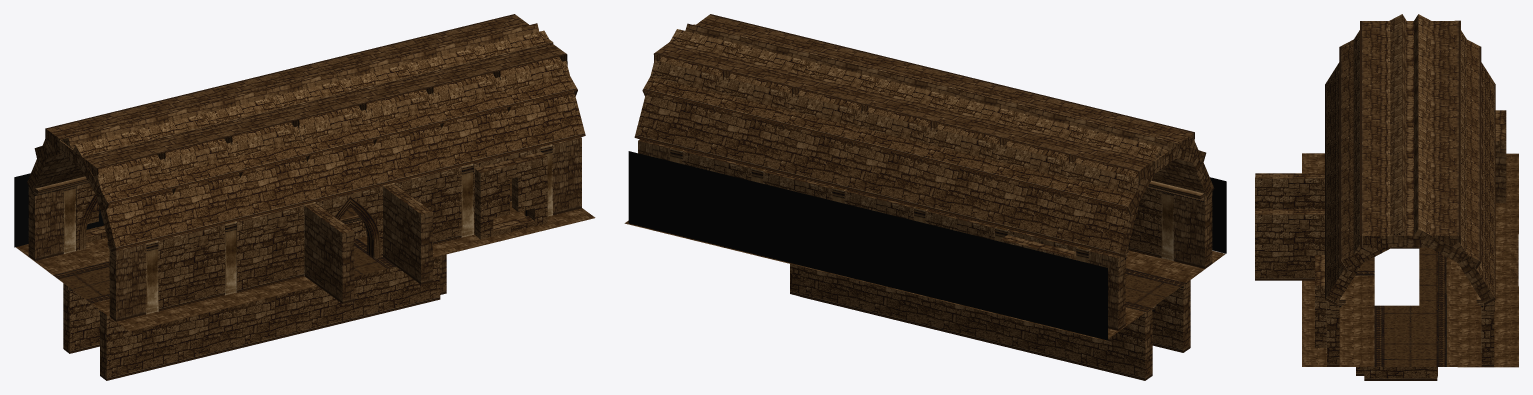
File: TunnelTemplate5.fbx
3 views of the same model, side by side, from view 1: azimuth 30°, elevation 25°; view 2: azimuth 150°, elevation 25°; view 3: azimuth 270°, elevation 25° (orthographic). The views are drawn at different scales.
Visible parts, largest first — view 1: Plane.076, Plane.057, Plane.060, Plane.055, Plane.059, Plane.058, Plane.056, Plane.035, Plane.036, Plane.029, Plane.030, Plane.050 (+21 smaller); view 2: Plane.068, Plane.076, Plane.061, Plane.067, Plane.064, Plane.063, Plane.062, Plane.066, Plane.065, Plane.057, Plane.045, Plane.030 (+15 smaller); view 3: Plane.076, Plane.064, Plane.001, Plane.060, Plane.062, Plane.066, Plane.065, Plane.061, Plane.067, Plane.063, Plane.050, Plane.058 (+9 smaller).
Part boxes in pixels (left/top/right/bottom): Plane.076: left=16, top=178, right=595, bottom=380; Plane.057: left=59, top=128, right=183, bottom=251; Plane.060: left=477, top=30, right=585, bottom=151; Plane.055: left=209, top=96, right=317, bottom=218; Plane.059: left=410, top=47, right=518, bottom=168; Plane.058: left=343, top=63, right=451, bottom=184; Plane.056: left=142, top=112, right=249, bottom=234; Plane.035: left=276, top=79, right=384, bottom=201; Plane.036: left=474, top=152, right=547, bottom=239; Plane.029: left=236, top=205, right=303, bottom=292; Plane.030: left=157, top=224, right=224, bottom=311; Plane.050: left=304, top=203, right=354, bottom=303; Plane.068: left=628, top=151, right=1107, bottom=340; Plane.076: left=624, top=220, right=1225, bottom=380; Plane.061: left=1049, top=125, right=1177, bottom=257; Plane.067: left=842, top=75, right=970, bottom=206; Plane.064: left=634, top=24, right=762, bottom=155; Plane.063: left=911, top=92, right=1039, bottom=221; Plane.062: left=980, top=109, right=1108, bottom=239; Plane.066: left=772, top=58, right=900, bottom=188; Plane.065: left=703, top=41, right=831, bottom=172; Plane.057: left=1100, top=115, right=1214, bottom=198; Plane.045: left=1173, top=192, right=1212, bottom=268; Plane.030: left=1128, top=188, right=1161, bottom=258; Plane.076: left=1302, top=153, right=1518, bottom=380; Plane.064: left=1388, top=198, right=1495, bottom=304; Plane.001: left=1255, top=209, right=1324, bottom=280; Plane.060: left=1325, top=198, right=1428, bottom=305; Plane.062: left=1388, top=45, right=1495, bottom=145; Plane.066: left=1388, top=137, right=1495, bottom=237; Plane.065: left=1388, top=168, right=1495, bottom=267; Plane.061: left=1388, top=14, right=1495, bottom=114; Plane.067: left=1388, top=106, right=1495, bottom=206; Plane.063: left=1388, top=75, right=1495, bottom=175; Plane.050: left=1255, top=173, right=1324, bottom=212; Plane.058: left=1325, top=137, right=1406, bottom=237.
Size of the model in its own units: 17519 by 7833 by 9063.
